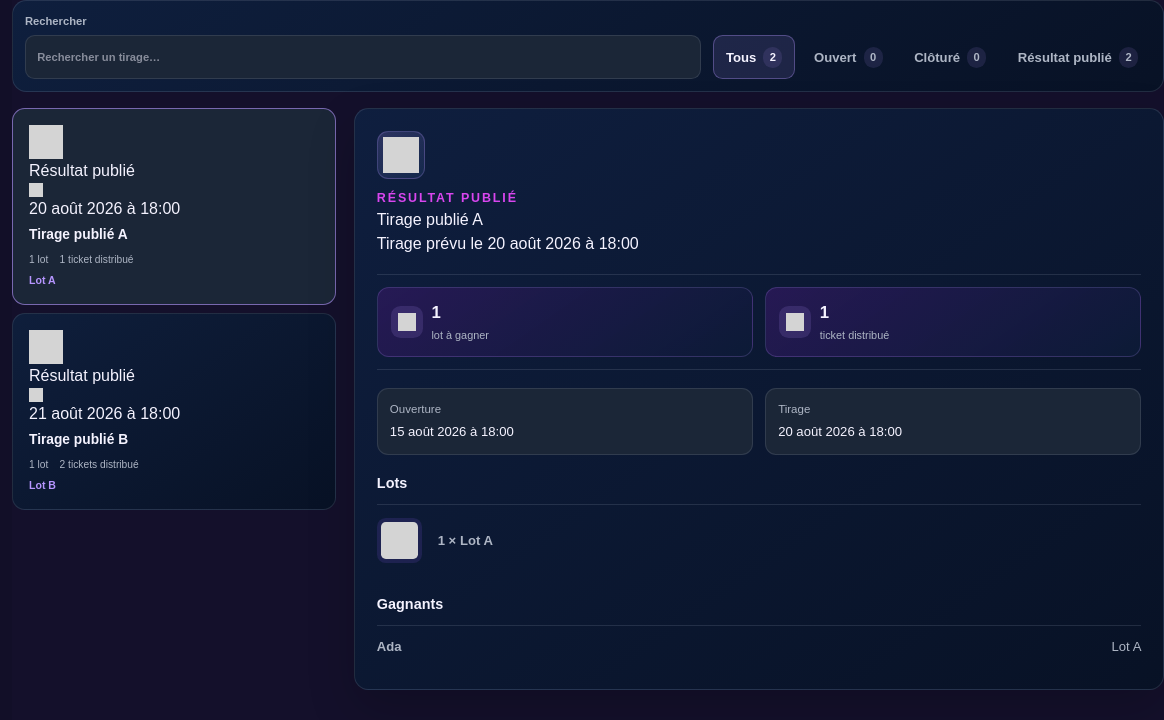
Scenario: ListeTirages › isole les résultats de plusieurs tirages publiés
Check: the text "Ada" is shown, box [377,637,402,657]
Click the button "Tirage publié B" at (174,412), box [12,313,336,510]
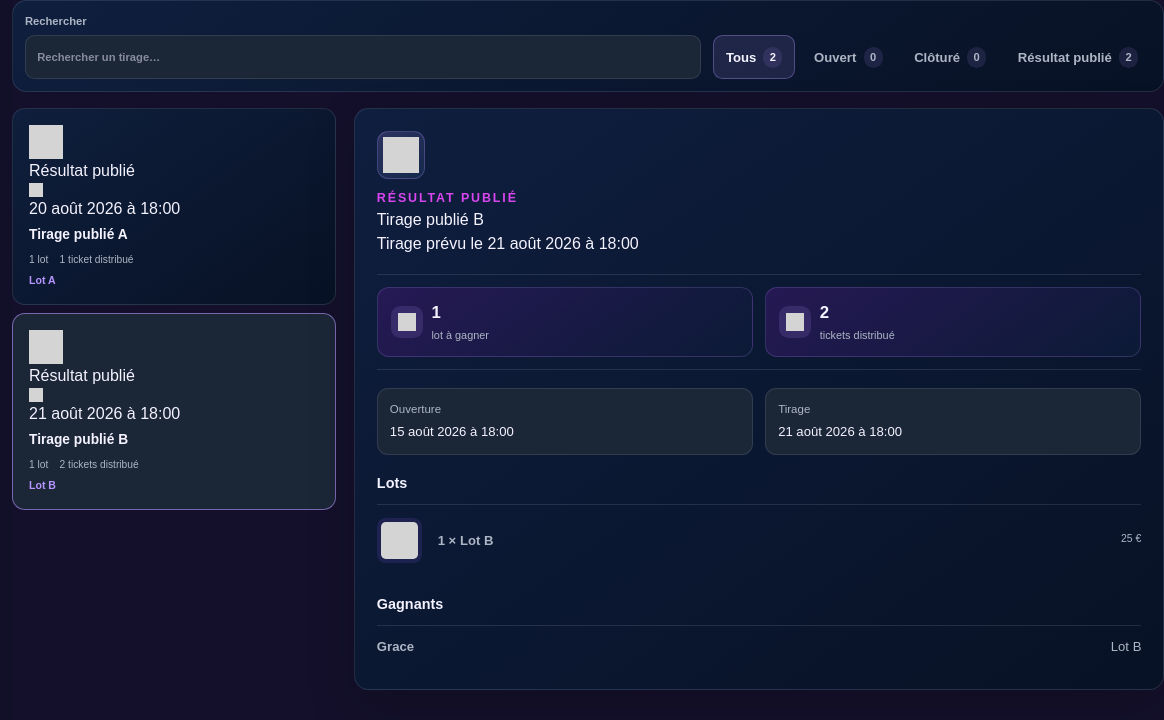
Check: the 1st text "Lot B" is shown, box [29,479,56,491]
Check: the text "Grace" is shown, box [377,637,414,657]
Check: the text "25 €" is shown, box [1121,533,1141,544]
